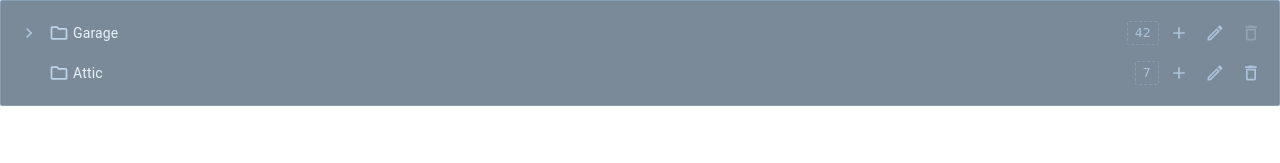
Test: LocationTree defaultExpanded › renders collapsed by default — children hidden until the chevron is clicked
Expected: the text "Workbench" is not shown
Click the button named "Expand Garage" at {"x": 29, "y": 33}, box [13,17,45,49]
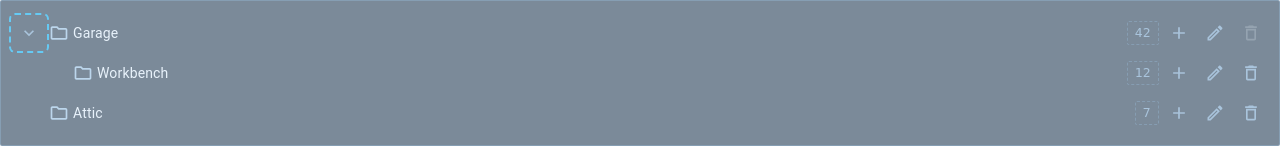
Expected: the link "Workbench" is shown, [97,65,168,81]
